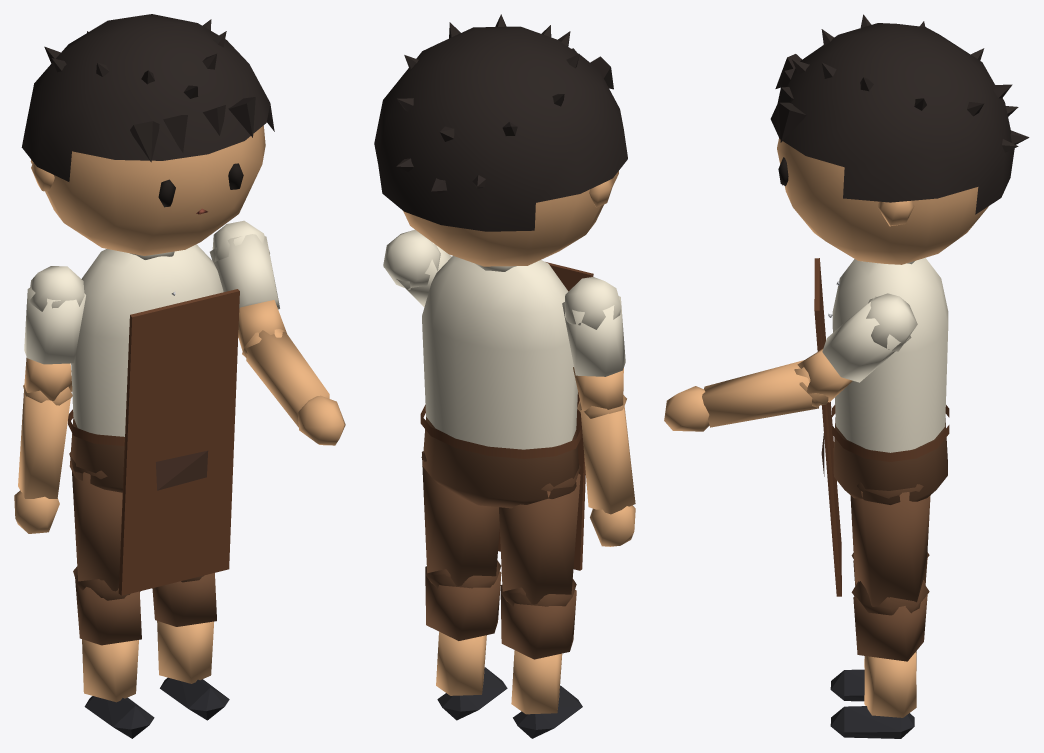
Rendered from central_noodle_seller.glb.
3 renders of one model, left to right at view 1: azimuth 30°, elevation 25°; view 2: azimuth 150°, elevation 25°; view 3: azimuth 270°, elevation 25°, orthographic.
Visible parts, largest first — view 1: body, head, shin_R, shin_L, arm_R, forearm_R, arm_L, forearm_L, leg_R; view 2: head, body, shin_L, shin_R, leg_R, arm_R, leg_L, forearm_R, arm_L; view 3: head, body, shin_L, leg_L, arm_L, forearm_L, shin_R.
Boxes of the visible parts, x1,y1,x2,y2 form: body: [68, 244, 239, 595]; head: [21, 14, 274, 255]; shin_R: [75, 578, 154, 738]; shin_L: [152, 573, 229, 720]; arm_R: [23, 266, 85, 405]; forearm_R: [14, 390, 70, 533]; arm_L: [209, 220, 286, 357]; forearm_L: [244, 329, 345, 445]; leg_R: [69, 452, 140, 597]; head: [374, 14, 627, 266]; body: [420, 256, 593, 570]; shin_L: [425, 561, 507, 720]; shin_R: [500, 580, 582, 738]; leg_R: [499, 465, 580, 606]; arm_R: [562, 277, 626, 418]; leg_L: [421, 451, 500, 588]; forearm_R: [580, 405, 635, 546]; arm_L: [383, 229, 451, 307]; head: [770, 14, 1029, 264]; body: [814, 257, 949, 596]; shin_L: [830, 580, 927, 738]; leg_L: [850, 482, 930, 614]; arm_L: [794, 293, 917, 405]; forearm_L: [664, 360, 825, 431]; shin_R: [830, 558, 927, 701].
Bounding box in the file's own units: 0.5589 × 1.48 × 0.7183.
